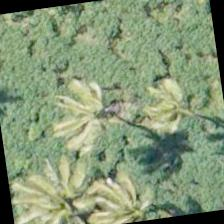Kelapa_Sawit: (48, 64, 150, 166), (119, 60, 220, 162), (9, 152, 109, 223), (90, 166, 187, 223)
